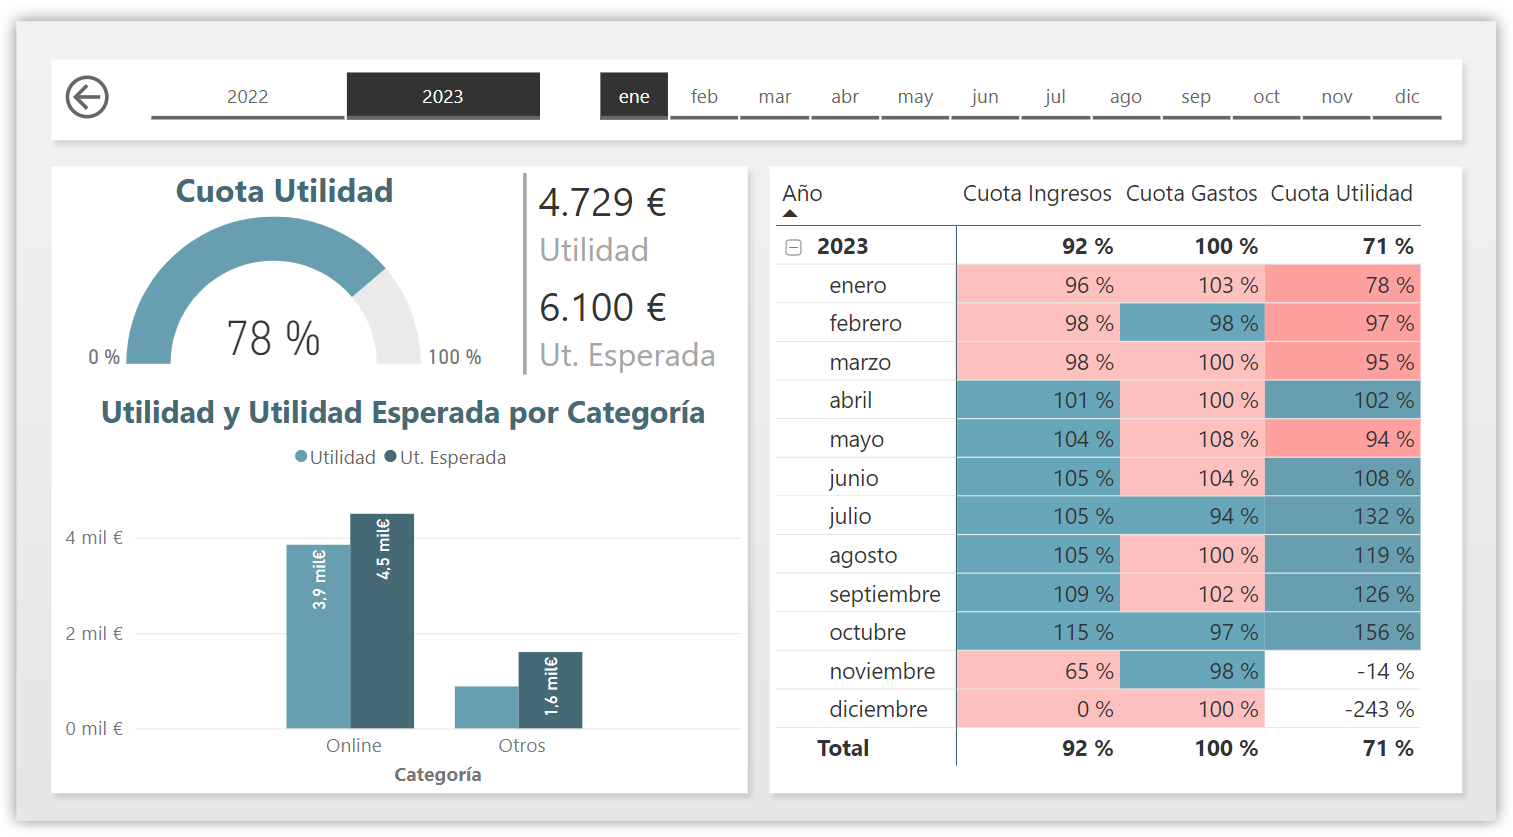

The page's visual inventory and layout, read from the dashboard file:
{"tool":"powerbi","page":{"name":"Detalle Utilidad","canvas":[1280,720],"ordinal":7},"visuals":[{"type":"slicer","fields":{"Values":["Calendarios.Año"]},"box":[113.9,60,371.7,53.3],"z":0},{"type":"slicer","fields":{"Values":["Calendarios.Mes"]},"box":[485.6,60,746.7,53.3],"z":1000},{"type":"gauge","title":"Cuota Utilidad","fields":{"Y":["Cuotas %.Cuota Utilidad"]},"box":[56.9,144.6,385.4,173.1],"z":2000},{"type":"multiRowCard","fields":{"Values":["Finanzas.Utilidad","Expectativas.Ut. Esperada"]},"box":[442.5,145,190.8,185],"z":3000},{"type":"actionButton","box":[63.3,60,46.7,55],"z":4000},{"type":"clusteredColumnChart","title":"Utilidad y Utilidad Esperada por Categoría","fields":{"Category":["Categorias.Cat-Otros"],"Y":["Finanzas.Utilidad","Expectativas.Ut. Esperada"]},"box":[63.3,330,570,333.3],"z":5000},{"type":"pivotTable","fields":{"Rows":["Calendarios.Año","Calendarios.Nombre del mes"],"Values":["Cuotas %.Cuota Ingresos","Cuotas %.Cuota Gastos","Cuotas %.Cuota Utilidad"]},"box":[652.3,144.6,573.8,518.5],"z":6000}]}

Visuals, with their boxes in screenshot pixels (x1, y1, x2, y2), scaled from the page's 1280x720 canvas onto the 1513x837 screenshot:
slicer - Calendarios.Año: (left=135, top=70, right=574, bottom=132)
slicer - Calendarios.Mes: (left=574, top=70, right=1457, bottom=132)
"Cuota Utilidad" gauge: (left=67, top=168, right=523, bottom=369)
multiRowCard - Finanzas.Utilidad x Expectativas.Ut. Esperada: (left=523, top=169, right=749, bottom=384)
actionButton: (left=75, top=70, right=130, bottom=134)
"Utilidad y Utilidad Esperada por Categoría" clusteredColumnChart: (left=75, top=384, right=749, bottom=771)
pivotTable - Calendarios.Año x Calendarios.Nombre del mes: (left=771, top=168, right=1449, bottom=771)
